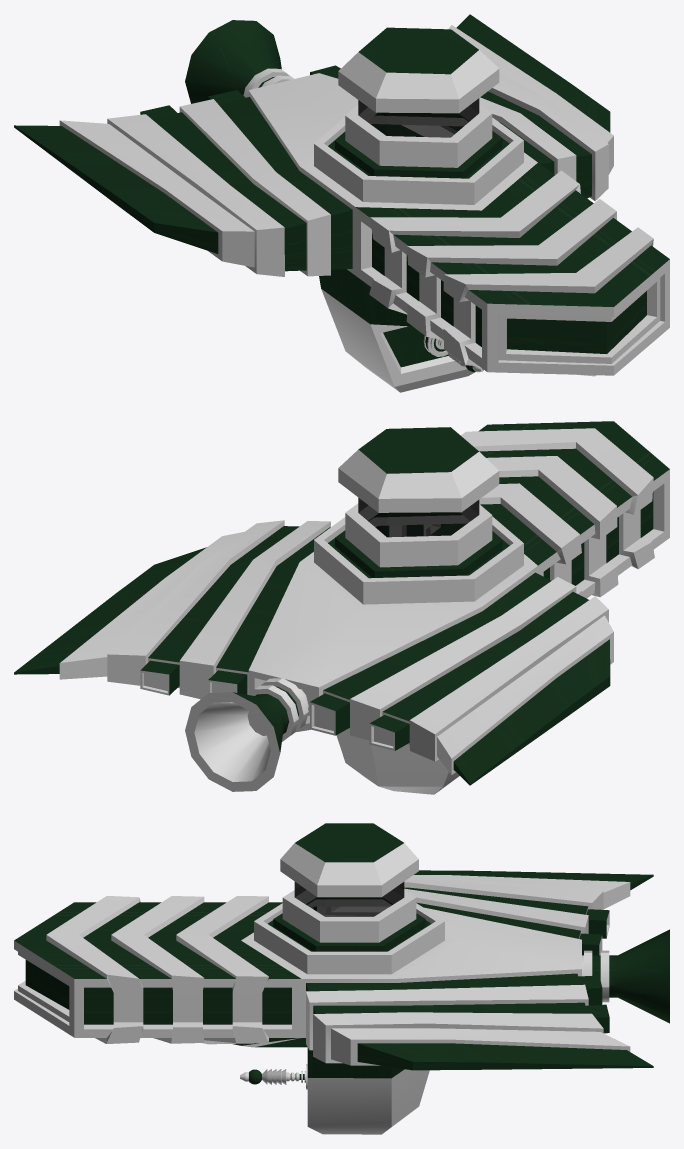
The model's file is DDE.fbx.
3 views of the same model, one above another, from view 1: azimuth 30°, elevation 25°; view 2: azimuth 150°, elevation 25°; view 3: azimuth 270°, elevation 25° (orthographic). The views are drawn at different scales.
Visible parts, largest first — view 1: DDE; view 2: DDE; view 3: DDE.
Part boxes in pixels (<box>): DDE: <box>14,14,669,392</box>; DDE: <box>14,421,669,794</box>; DDE: <box>14,823,669,1134</box>.
Bounding box in the file's own units: 6.01 × 4.06 × 8.7.
